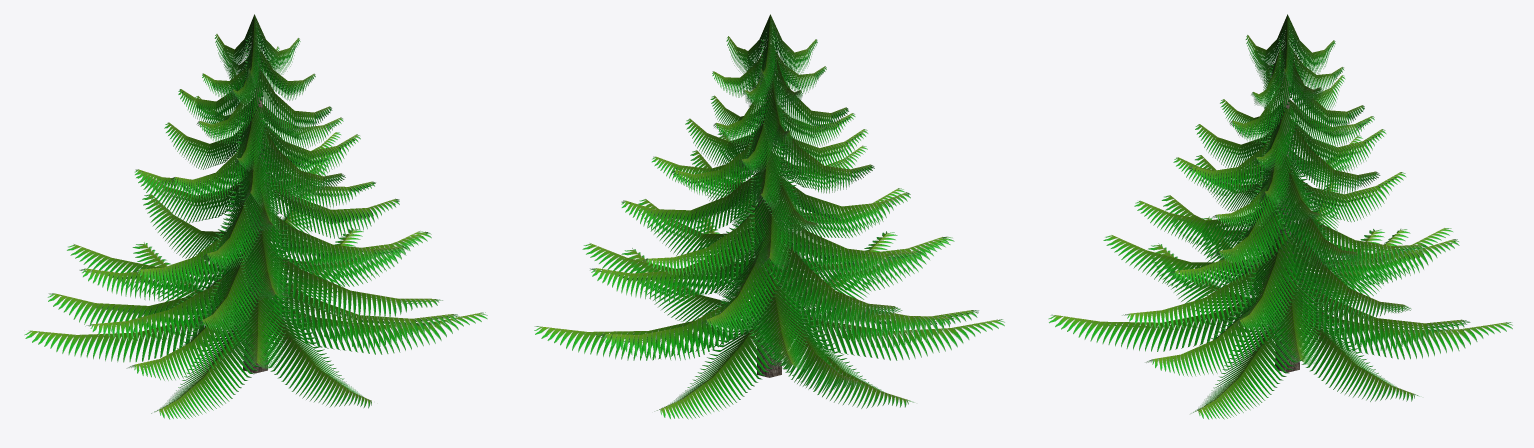
The model's file is Pine Tree.fbx.
3 renders of one model, left to right at view 1: azimuth 30°, elevation 25°; view 2: azimuth 150°, elevation 25°; view 3: azimuth 270°, elevation 25°, orthographic.
Visible parts, largest first — view 1: Leaves; view 2: Leaves, Trunk; view 3: Leaves, Trunk.
Part boxes in pixels (left/top/right/bottom): Leaves: left=24, top=14, right=487, bottom=419; Leaves: left=534, top=14, right=1005, bottom=419; Trunk: left=757, top=64, right=781, bottom=377; Leaves: left=1048, top=14, right=1512, bottom=419; Trunk: left=1275, top=66, right=1299, bottom=372.
Size of the model in its own units: 11.55 by 9.73 by 11.96.
